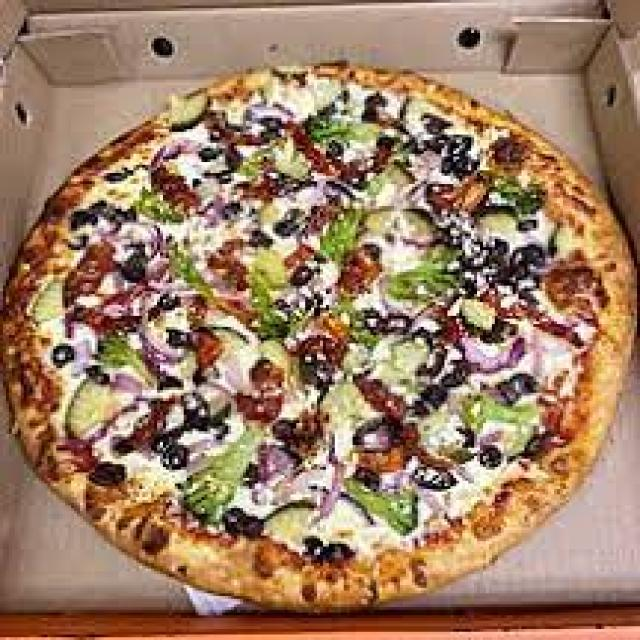피자: (17, 50, 640, 615)
